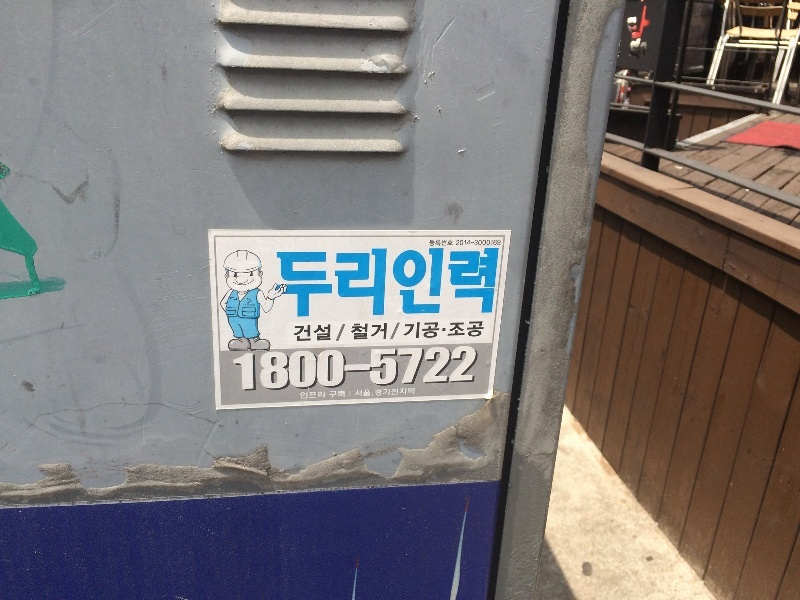text: (273, 246, 288, 319), (289, 246, 304, 319), (305, 246, 320, 319), (321, 246, 336, 319), (337, 246, 352, 319), (353, 246, 368, 319), (369, 246, 384, 319), (385, 246, 400, 319), (401, 246, 416, 319), (417, 246, 432, 319), (433, 246, 448, 319), (449, 246, 464, 319), (465, 246, 480, 319), (481, 246, 496, 319), (241, 346, 256, 392), (257, 346, 272, 392), (273, 346, 288, 392), (289, 346, 304, 392), (305, 346, 320, 392), (321, 346, 336, 392), (337, 346, 352, 392), (353, 346, 368, 392), (369, 346, 384, 392), (385, 346, 400, 392), (401, 346, 416, 392), (417, 346, 432, 392), (433, 346, 448, 392), (449, 346, 464, 392), (465, 346, 479, 392), (232, 346, 240, 392), (497, 246, 501, 319), (305, 324, 320, 342), (353, 323, 368, 341), (369, 323, 384, 341), (417, 322, 432, 339), (339, 323, 352, 342), (465, 321, 480, 337), (433, 322, 447, 339), (389, 322, 400, 341), (451, 321, 464, 337), (293, 324, 304, 342), (321, 324, 332, 342), (405, 322, 416, 339), (385, 387, 400, 397), (401, 387, 415, 397), (337, 389, 351, 398), (433, 239, 448, 247), (305, 391, 320, 399), (465, 239, 480, 246), (481, 239, 496, 246), (374, 387, 384, 397), (357, 389, 368, 397), (456, 239, 464, 246), (385, 323, 388, 341), (330, 389, 336, 398), (481, 321, 484, 337), (321, 391, 327, 399), (369, 389, 374, 397), (449, 239, 453, 247), (497, 239, 501, 246), (429, 239, 432, 247), (301, 391, 304, 399), (351, 323, 352, 341)
